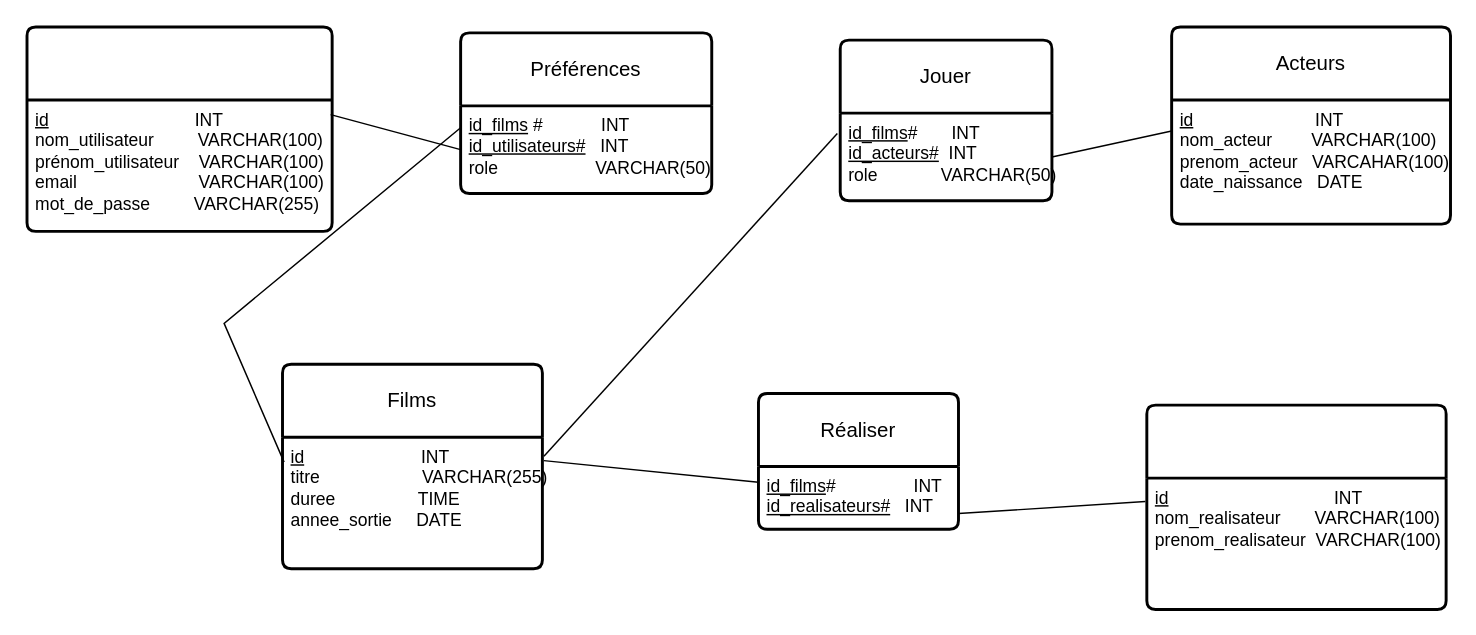
Some shapes in this 1476 by 635 pixel diagram are drawn without their labels. The box of each missing label's shape, as (x1, y1, x2, y2) in pixels:
Réalisateurs: (1145, 403, 1447, 610)
utilisateurs: (25, 25, 333, 232)
